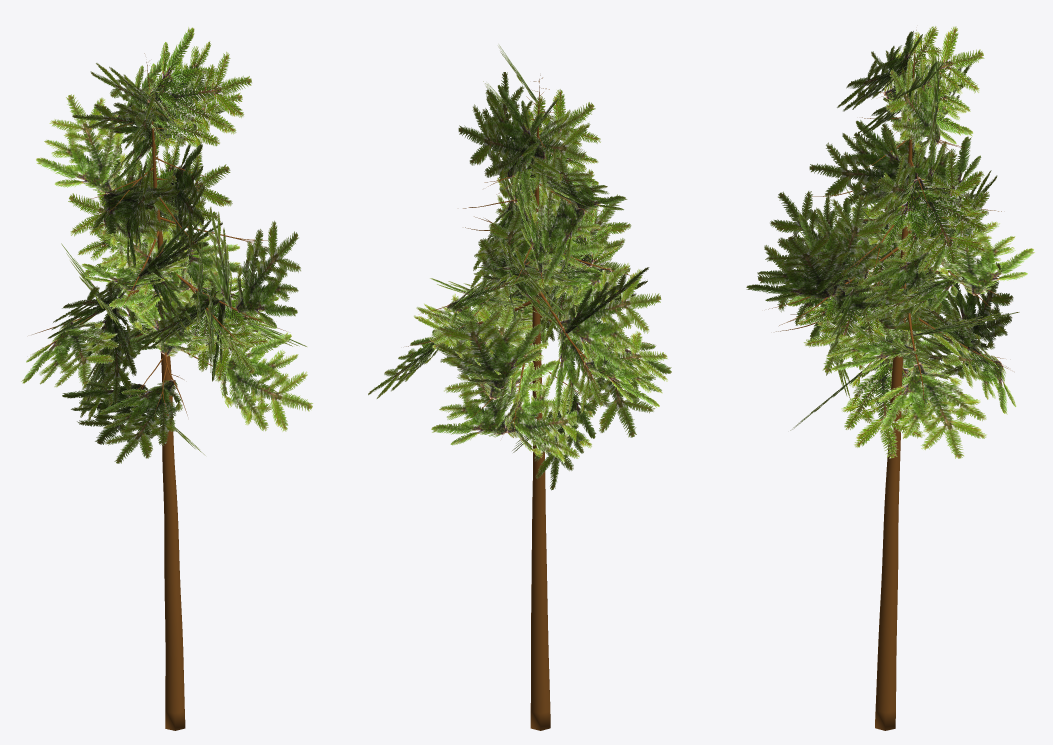
The model's file is Pinuskecil 1.fbx.
3 views of the same model, side by side, from view 1: azimuth 30°, elevation 25°; view 2: azimuth 150°, elevation 25°; view 3: azimuth 270°, elevation 25° (orthographic). The views are drawn at different scales.
Parts seen in each view (by area): view 1: daun pinus.002; view 2: daun pinus.002; view 3: daun pinus.002.
Boxes of the visible parts, bbox=[...] form: daun pinus.002: bbox=[21, 27, 313, 730]; daun pinus.002: bbox=[368, 45, 671, 730]; daun pinus.002: bbox=[746, 26, 1034, 730].
Size of the model in its own units: 1922 by 4088 by 1604.
Materials: 2 (1 with a texture image).
